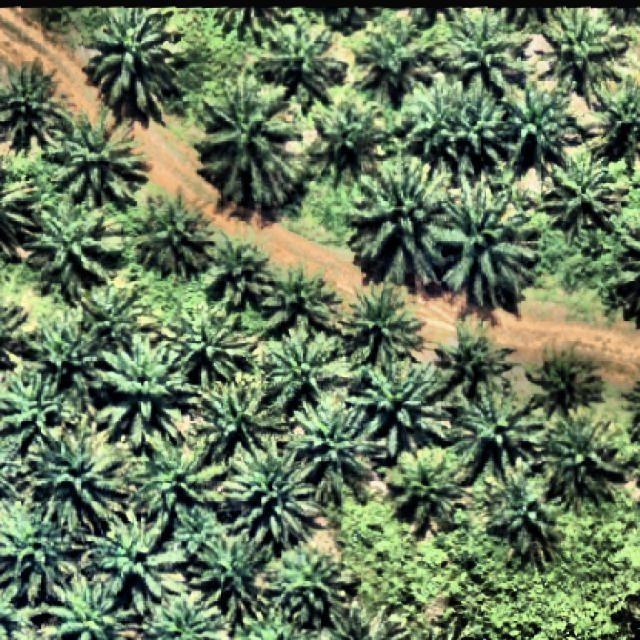Kelapa_Sawit: (195, 71, 308, 207), (346, 157, 460, 288), (436, 170, 538, 310), (26, 411, 132, 537), (93, 333, 202, 452), (283, 394, 388, 508), (346, 352, 457, 456), (82, 6, 186, 116), (224, 434, 321, 551), (20, 200, 128, 300), (45, 103, 150, 205), (88, 506, 185, 616), (454, 378, 548, 484), (186, 524, 282, 626), (126, 432, 232, 522), (538, 406, 626, 512), (256, 18, 352, 114), (264, 540, 360, 634), (190, 375, 292, 463), (353, 6, 441, 105), (486, 467, 572, 567), (538, 144, 626, 240), (132, 183, 218, 280), (260, 324, 348, 416), (309, 88, 389, 188), (164, 305, 261, 387), (445, 8, 533, 98), (340, 281, 428, 368), (504, 70, 580, 170), (260, 256, 346, 342), (388, 444, 466, 536), (439, 312, 521, 398), (526, 338, 608, 418), (203, 220, 274, 308), (72, 278, 154, 354), (397, 70, 465, 161), (36, 308, 104, 394), (449, 73, 514, 162), (174, 500, 226, 560)
